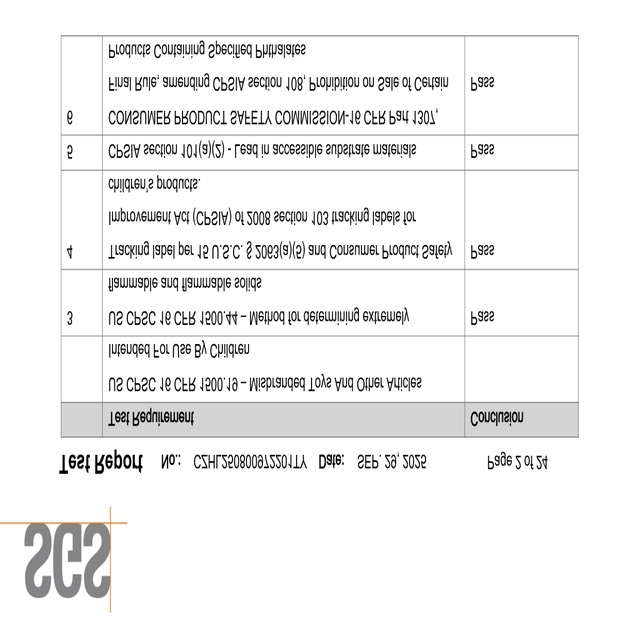sgs: (24, 522, 111, 599)
